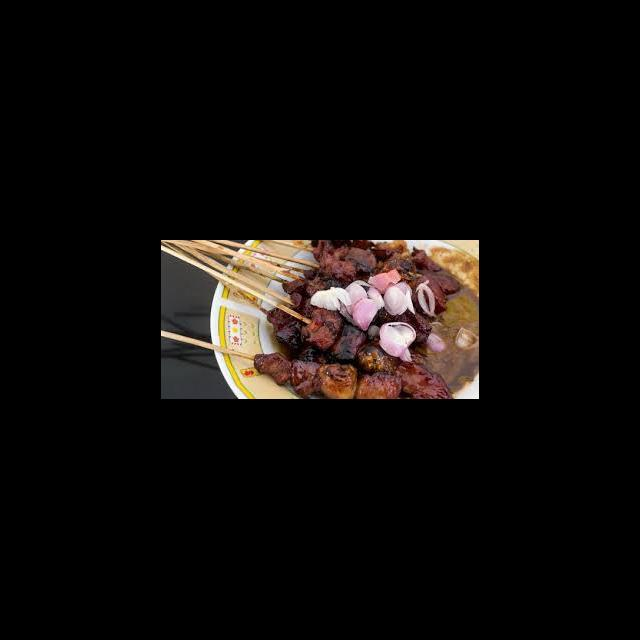food_waste: (307, 274, 445, 381)
